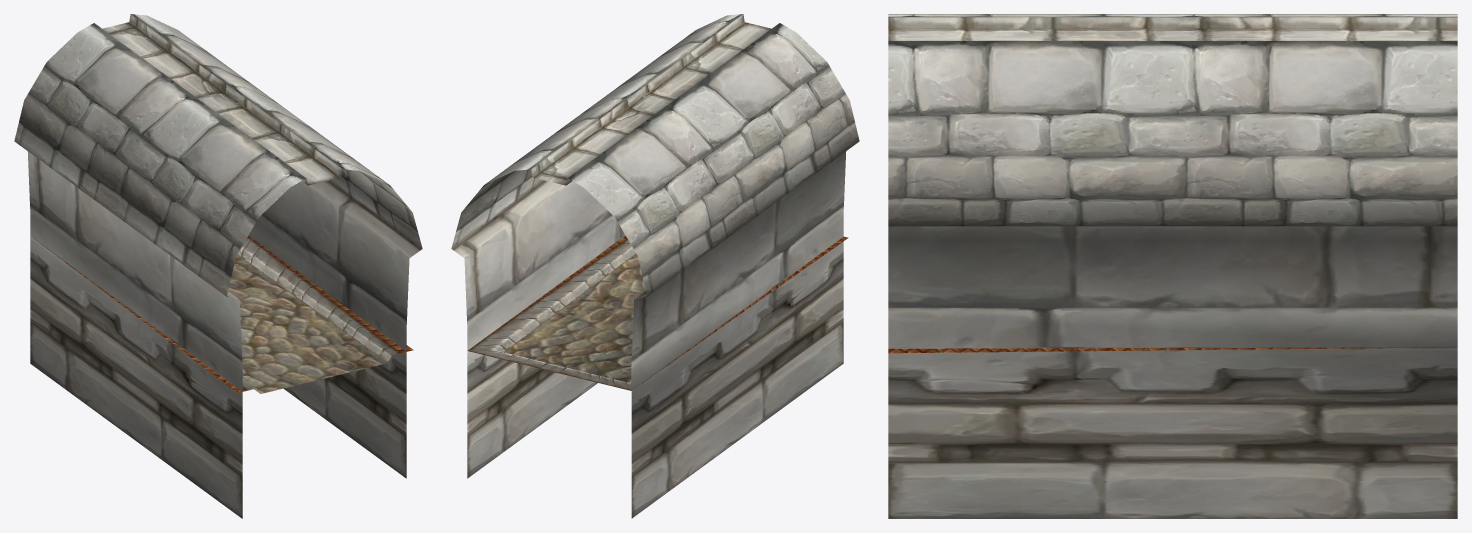
File: stormwind_013.fbx
3 views of the same model, side by side, from view 1: azimuth 30°, elevation 25°; view 2: azimuth 150°, elevation 25°; view 3: azimuth 270°, elevation 25° (orthographic). The views are drawn at different scales.
Visible parts, largest first — view 1: stormwind_013_11, stormwind_013_4, stormwind_013_46, stormwind_013_5, stormwind_013_12; view 2: stormwind_013_11, stormwind_013_4, stormwind_013_46, stormwind_013_5, stormwind_013_12; view 3: stormwind_013_11, stormwind_013_4, stormwind_013_5, stormwind_013_12.
Boxes of the visible parts, x1,y1,x2,y2 form: stormwind_013_11: (27,151,422,518); stormwind_013_4: (14,14,422,296); stormwind_013_46: (228,255,387,393); stormwind_013_5: (102,14,342,185); stormwind_013_12: (41,235,413,393); stormwind_013_11: (451,151,846,518); stormwind_013_4: (451,14,859,296); stormwind_013_46: (505,254,645,382); stormwind_013_5: (531,14,771,185); stormwind_013_12: (467,235,848,390); stormwind_013_11: (888,226,1457,518); stormwind_013_4: (888,14,1457,226); stormwind_013_5: (888,17,1457,40); stormwind_013_12: (888,347,1449,353).
Bounding box in the file's own units: 10.07 × 15.95 × 18.88.
